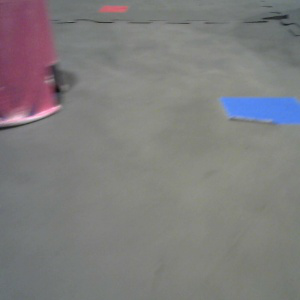middle: (1, 1, 70, 128)
